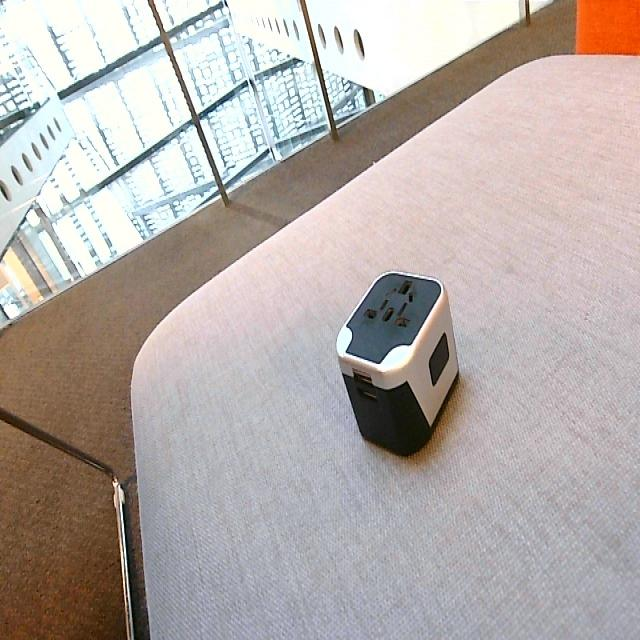adapter: (335, 268, 459, 457)
